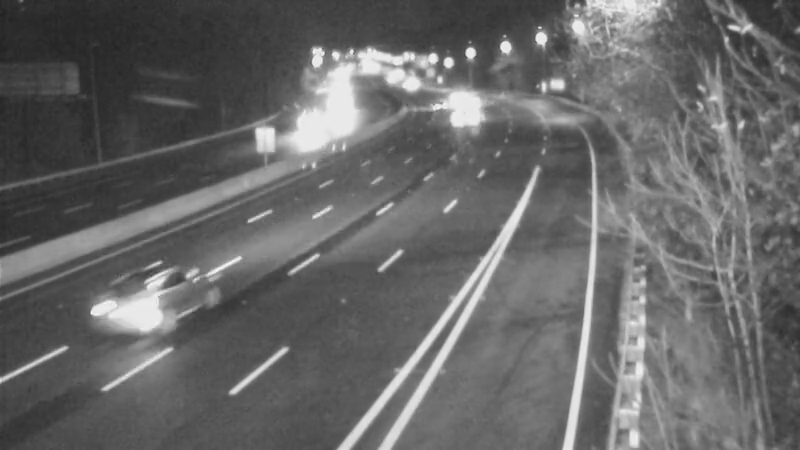vehicle: (78, 261, 188, 371), (432, 71, 482, 121), (446, 81, 496, 131), (411, 79, 461, 129), (439, 94, 489, 144), (283, 101, 333, 151)
